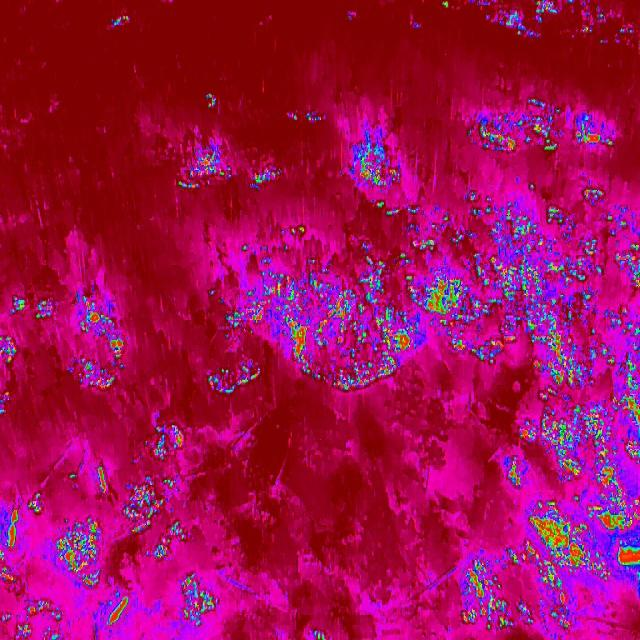fire: (205, 178, 640, 400), (0, 462, 228, 640), (504, 400, 640, 640), (0, 281, 127, 421), (459, 99, 618, 156), (438, 0, 638, 45), (178, 140, 282, 200), (457, 547, 516, 640), (346, 128, 406, 196), (148, 419, 194, 463), (287, 105, 323, 126), (196, 82, 216, 108), (108, 13, 130, 26)
